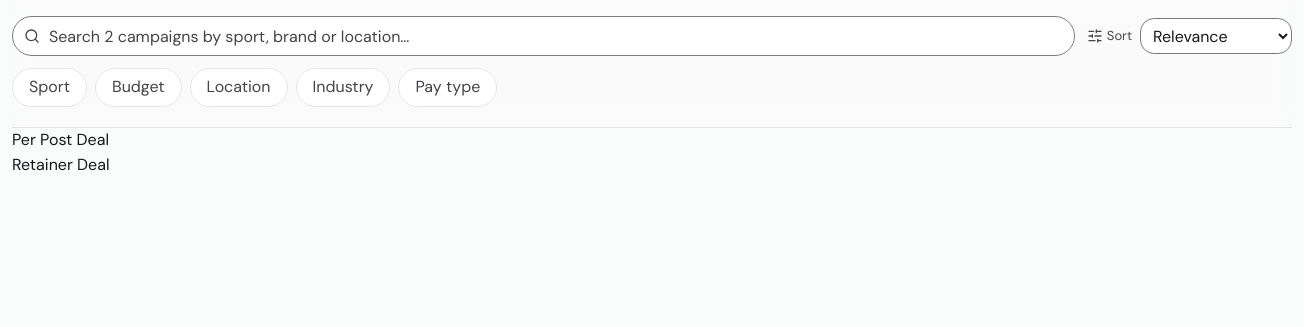
useListingFilters payType facet › filters out listings whose pay_type does not match the selection, and clearing restores them
Expected: the list item "Per Post Deal" is shown, [12, 129, 109, 150]
Expected: the list item "Retainer Deal" is shown, [12, 154, 110, 175]
Click the button "Pay type". click: (448, 87)
box: [398, 68, 497, 107]
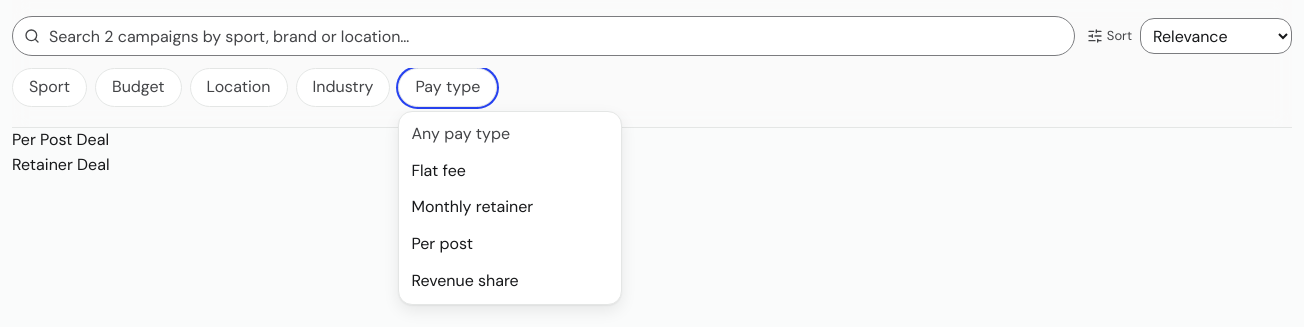
Click the option "Per post". click: (510, 245)
box: [404, 226, 618, 263]
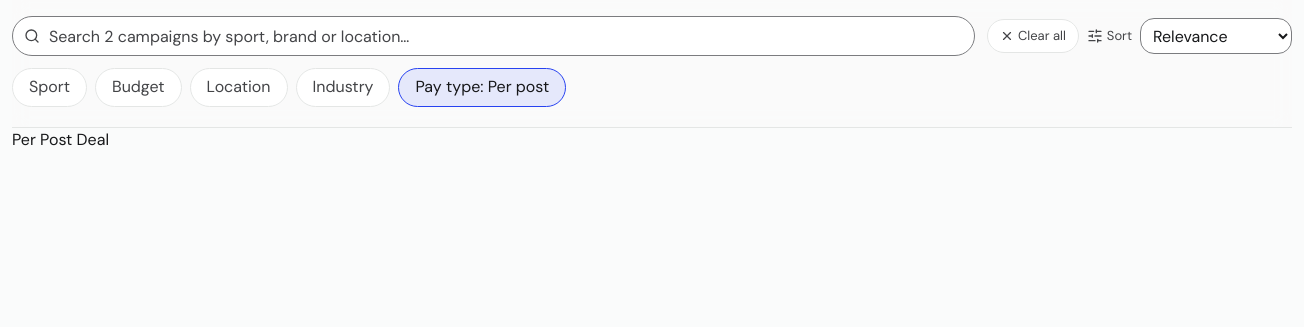
Expected: the list item "Per Post Deal" is shown, [12, 129, 109, 150]
Expected: the list item "Retainer Deal" is gone
# Clearing the facet restores the dropped listing.
Click the button "Pay type: Per post". click: (482, 87)
box: [398, 68, 566, 107]
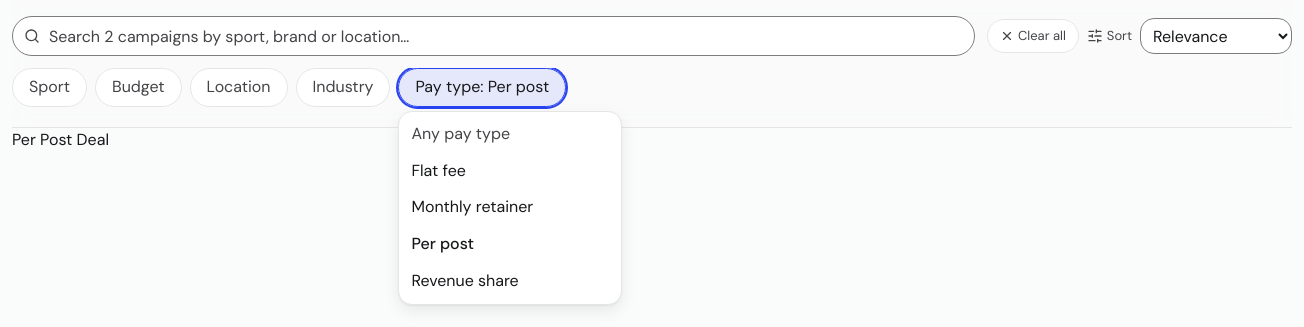
Click the option "Any pay type". click: (510, 134)
box: [404, 116, 618, 153]
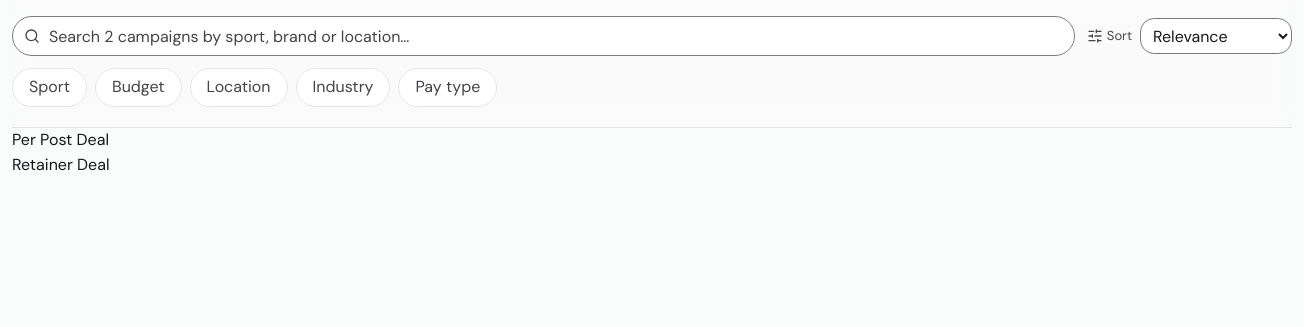
Expected: the list item "Per Post Deal" is shown, [12, 129, 109, 150]
Expected: the list item "Retainer Deal" is shown, [12, 154, 110, 175]
